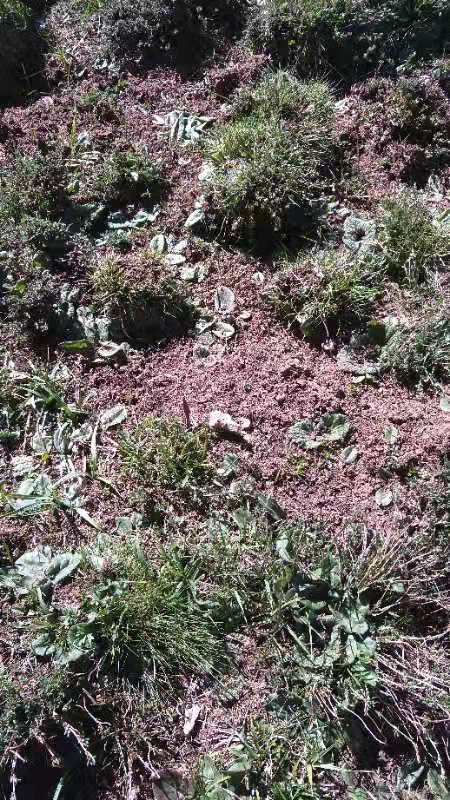cpf: (180, 394, 194, 428)
